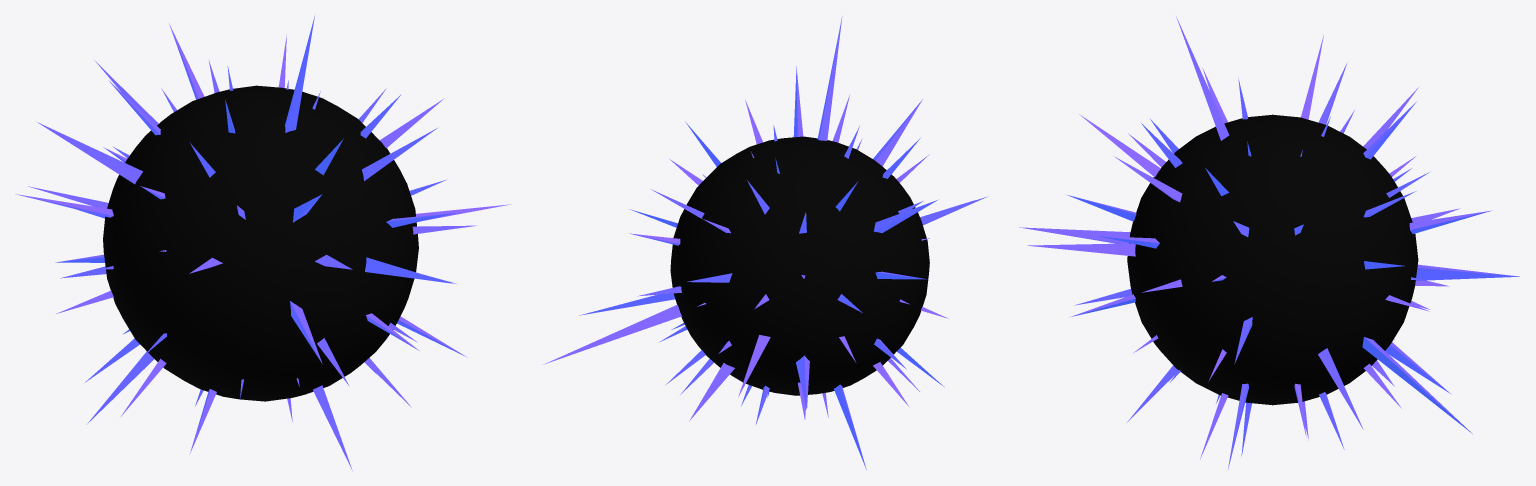
File: blue Explosion.fbx
3 renders of one model, left to right at view 1: azimuth 30°, elevation 25°; view 2: azimuth 150°, elevation 25°; view 3: azimuth 270°, elevation 25°, orthographic. The views are drawn at different scales.
Parts seen in each view (by area): view 1: Dark Sphere, explosion spike; view 2: Dark Sphere, explosion spike; view 3: Dark Sphere, explosion spike.
Boxes of the visible parts, x1,y1,x2,y2 form: Dark Sphere: (103,85,418,401); explosion spike: (15,16,510,470); Dark Sphere: (670,136,929,395); explosion spike: (543,16,987,469); Dark Sphere: (1127,114,1418,405); explosion spike: (1019,16,1519,470).
Size of the model in its own units: 11.61 by 11.7 by 12.71.
